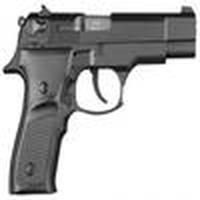gun: (5, 13, 200, 191)
